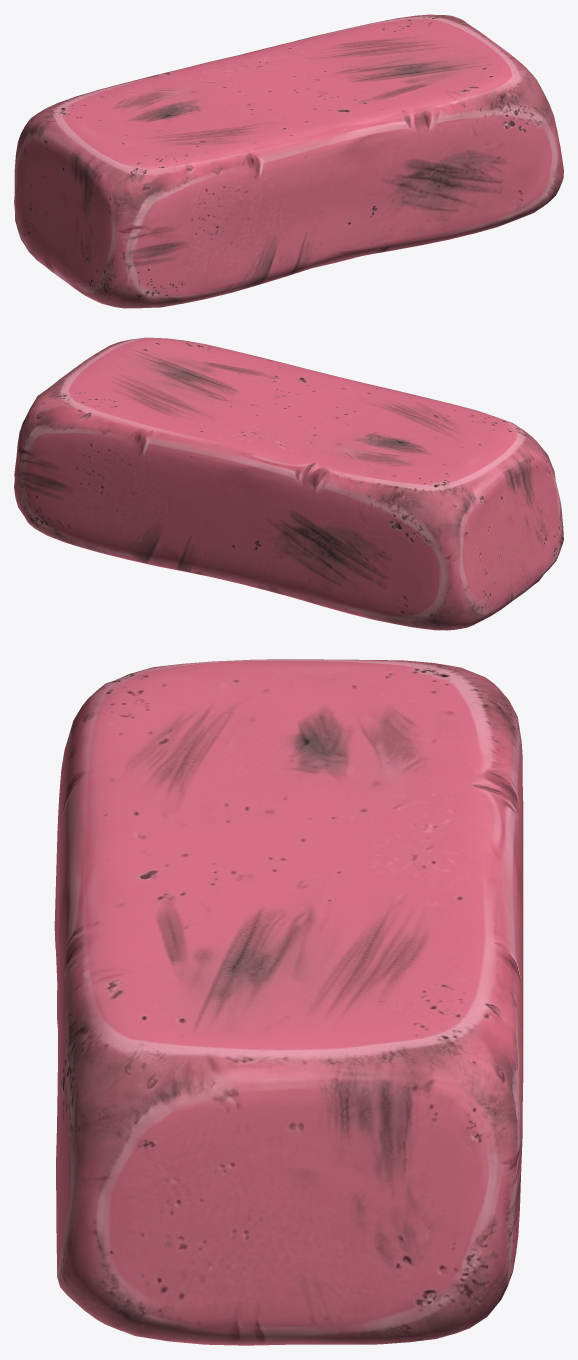
The model's file is eraser_block.glb.
3 renders of one model, top to bottom at view 1: azimuth 30°, elevation 25°; view 2: azimuth 150°, elevation 25°; view 3: azimuth 270°, elevation 25°, orthographic. The views are drawn at different scales.
Size of the model in its own units: 0.9619 by 0.2822 by 0.4199.
1 material, 1 textured.
